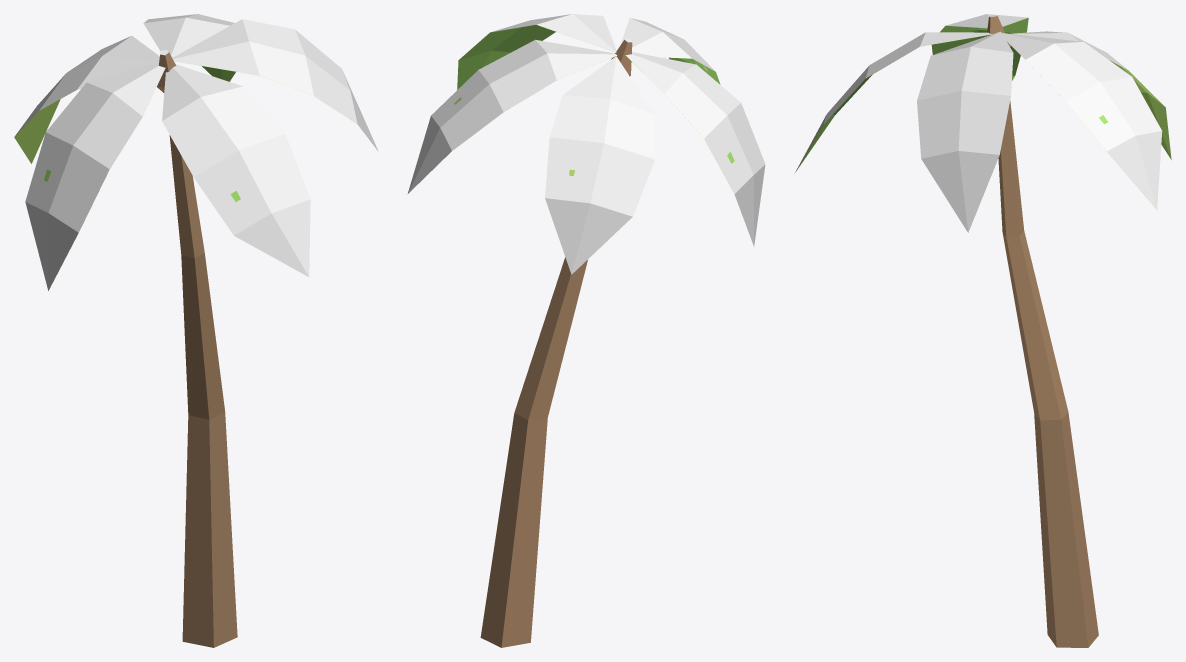
The model's file is Palm_Tree_s_Snow_06.fbx.
3 views of the same model, side by side, from view 1: azimuth 30°, elevation 25°; view 2: azimuth 150°, elevation 25°; view 3: azimuth 270°, elevation 25° (orthographic). The views are drawn at different scales.
Visible parts, largest first — view 1: Palm_Tree_s_Snow_06; view 2: Palm_Tree_s_Snow_06; view 3: Palm_Tree_s_Snow_06.
Part boxes in pixels (x1,y1,x2,y2): Palm_Tree_s_Snow_06: [14, 14, 378, 647]; Palm_Tree_s_Snow_06: [407, 14, 765, 647]; Palm_Tree_s_Snow_06: [794, 14, 1171, 647].
Size of the model in its own units: 211 by 393 by 229.
